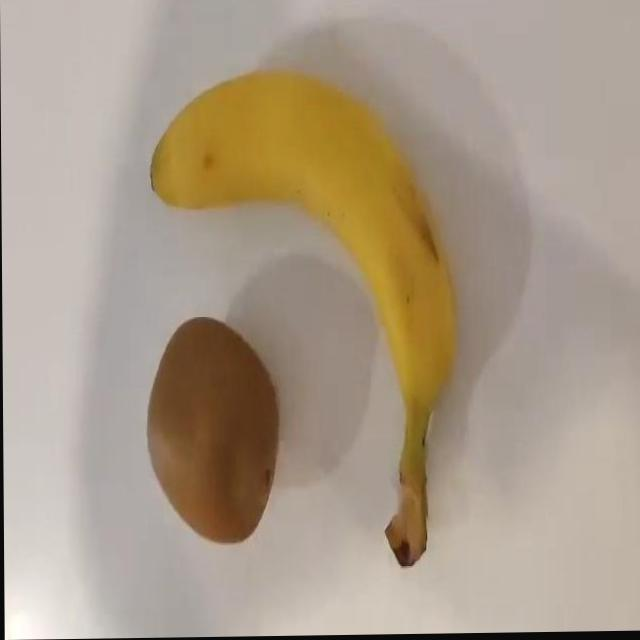Banana: (147, 65, 459, 571)
